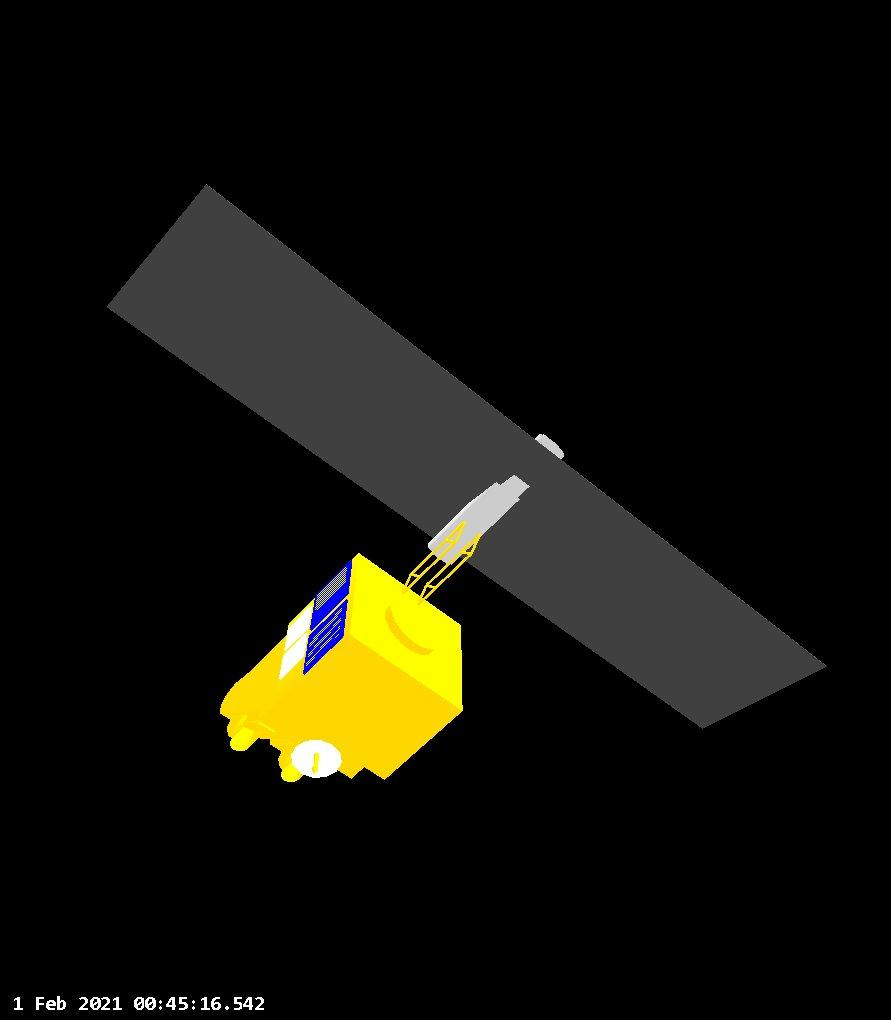antenna: (286, 737, 344, 780)
body: (214, 554, 467, 784)
solar: (99, 176, 825, 734)
